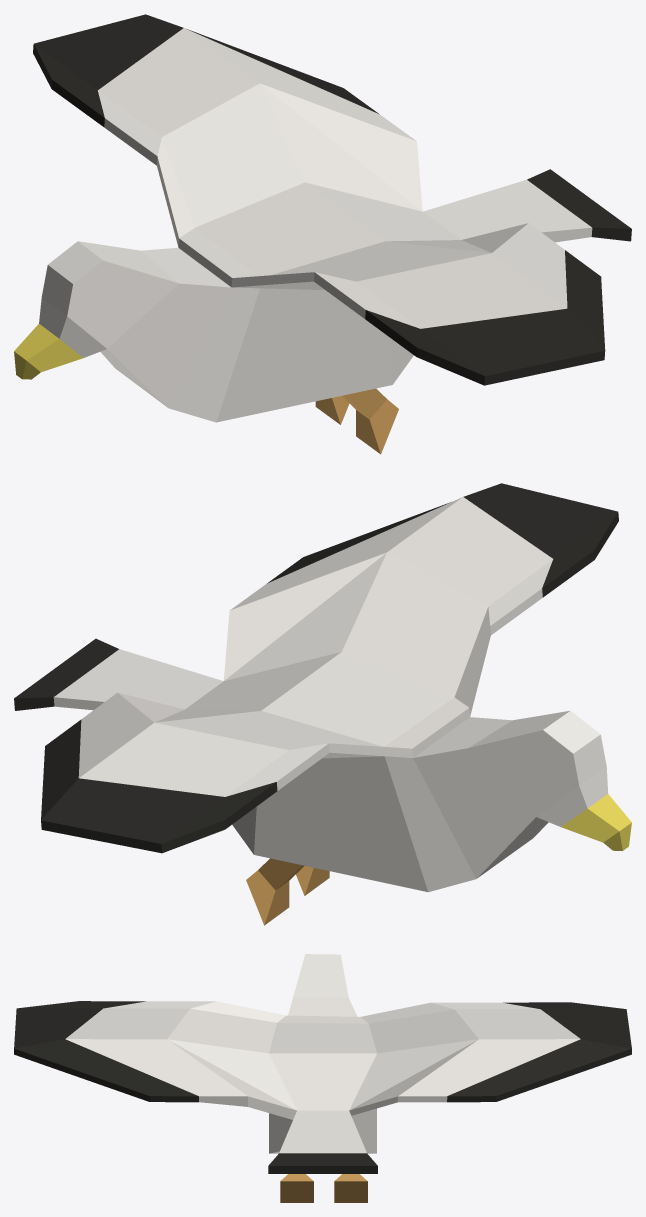
File: Seagull.fbx
3 renders of one model, top to bottom at view 1: azimuth 30°, elevation 25°; view 2: azimuth 150°, elevation 25°; view 3: azimuth 270°, elevation 25°, orthographic. The views are drawn at different scales.
Visible parts, largest first — view 1: Seagull; view 2: Seagull; view 3: Seagull.
Boxes of the visible parts, x1,y1,x2,y2 form: Seagull: (14, 14, 631, 454); Seagull: (14, 483, 631, 925); Seagull: (14, 954, 631, 1202).
Bounding box in the file's own units: 39.91 × 17.14 × 55.65.
